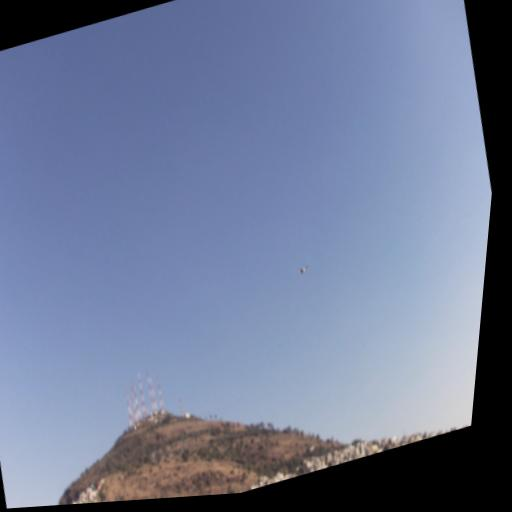drones: (294, 263, 312, 278)
